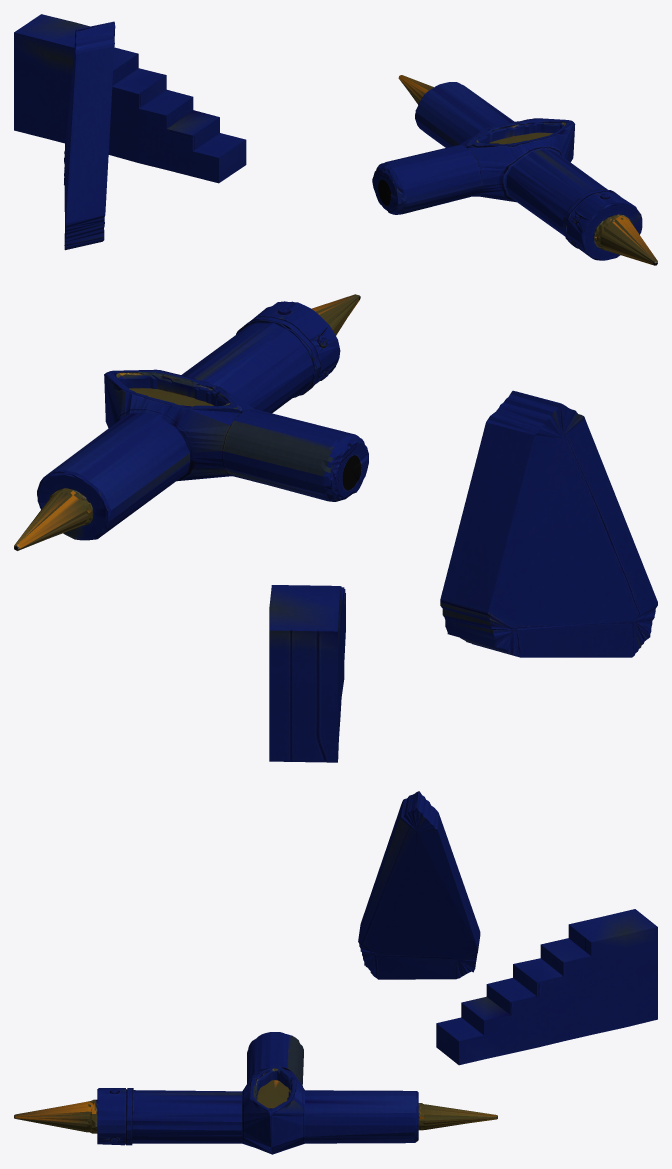
The model's file is valid-geometry-insert-set.glb.
The picture shows the model from 3 angles, top to bottom: view 1: azimuth 30°, elevation 25°; view 2: azimuth 150°, elevation 25°; view 3: azimuth 270°, elevation 25°; orthographic projection. The views are drawn at different scales.
Visible parts, largest first — view 1: tripo_node_c0806915-63e5-41d9-b78d-8036f04c0a93; view 2: tripo_node_c0806915-63e5-41d9-b78d-8036f04c0a93; view 3: tripo_node_c0806915-63e5-41d9-b78d-8036f04c0a93.
Boxes of the visible parts, x1,y1,x2,y2 form: tripo_node_c0806915-63e5-41d9-b78d-8036f04c0a93: (14, 14, 657, 265); tripo_node_c0806915-63e5-41d9-b78d-8036f04c0a93: (14, 294, 657, 762); tripo_node_c0806915-63e5-41d9-b78d-8036f04c0a93: (14, 791, 657, 1154).
Size of the model in its own units: 0.7793 by 0.3184 by 0.998.
Materials: 1 (1 with a texture image).
